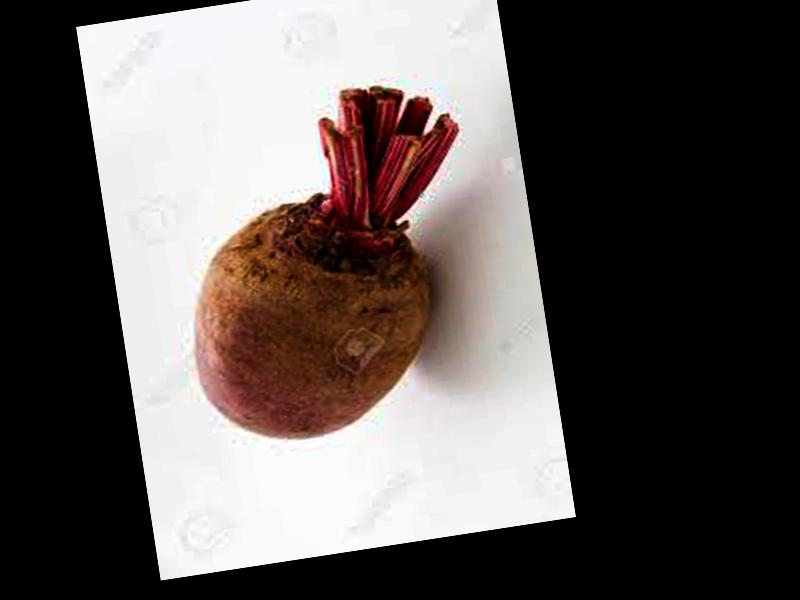Beet: (157, 74, 504, 454)
